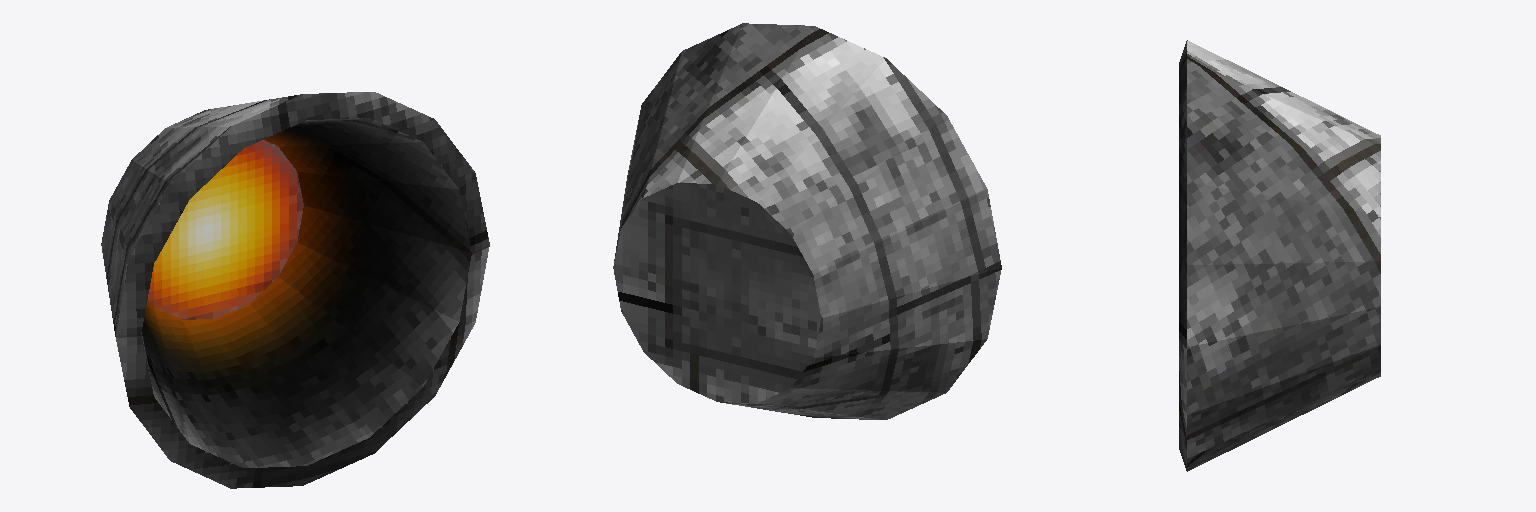
3 views of the same model, side by side, from view 1: azimuth 30°, elevation 25°; view 2: azimuth 150°, elevation 25°; view 3: azimuth 270°, elevation 25° (orthographic).
Parts seen in each view (by area): view 1: engine; view 2: engine; view 3: engine.
Boxes of the visible parts, box(x1,y1,x2,y2) form: engine: box(101, 92, 489, 488); engine: box(613, 23, 1001, 419); engine: box(1179, 40, 1380, 471).
Size of the model in its own units: 1.8 by 1.8 by 0.8443.
1 materials, 1 textured.